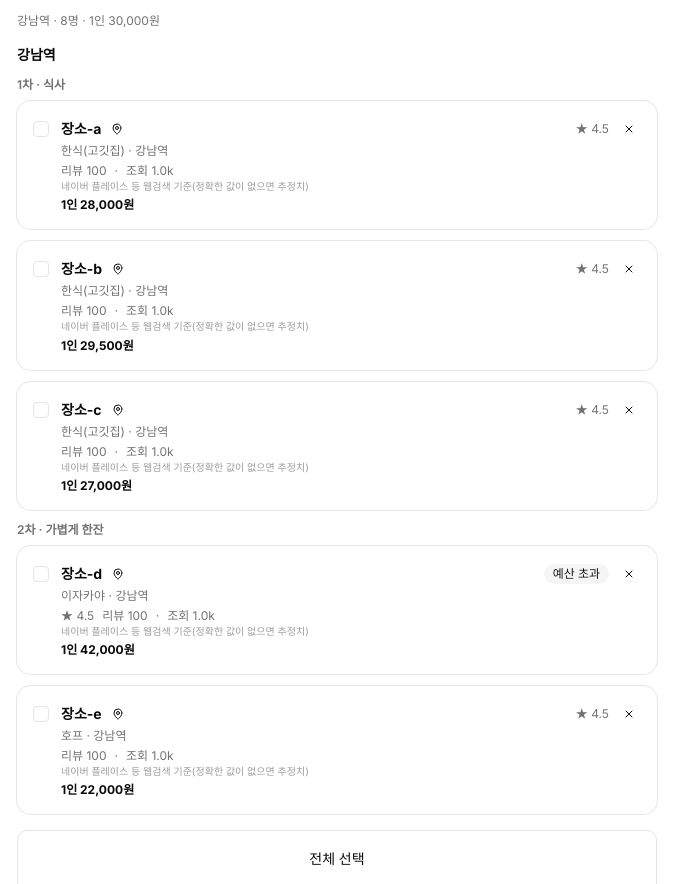
it: ResultList › 카드 체크박스를 클릭하면 선택 개수가 서버 왕복 없이 즉시 갱신된다
Click the checkbox named "장소-a 선택": (41, 129) 33,121 -> 49,137
(page scrolled)
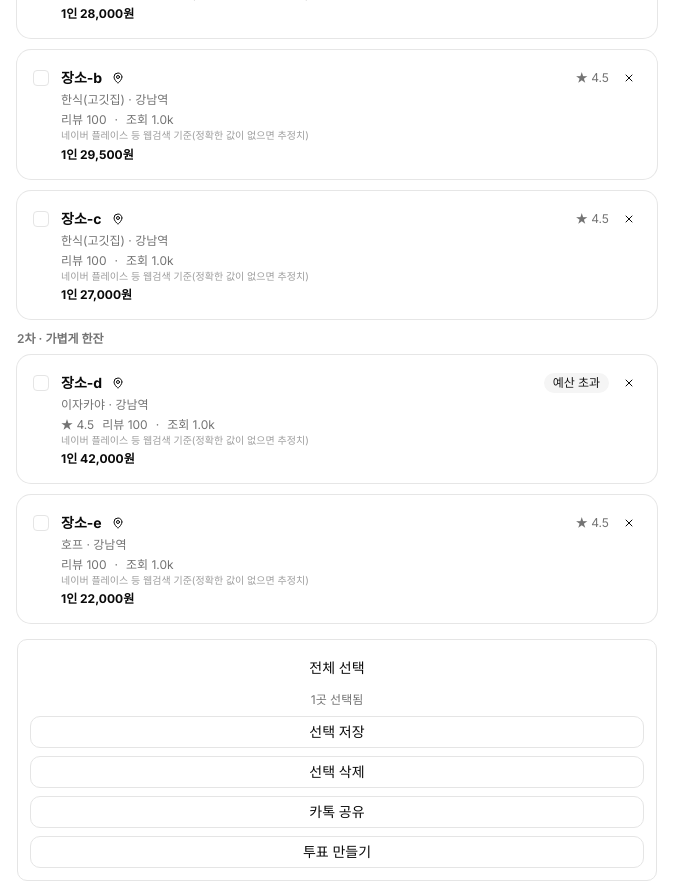
Check: the text "1곳 선택됨" is shown, box 311,692 -> 363,708
